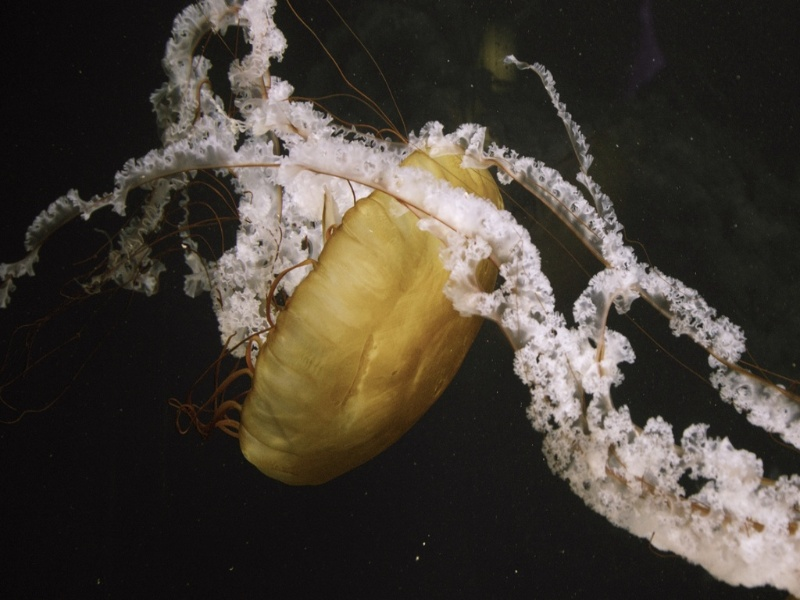Jellyfish: (0, 43, 799, 599)
